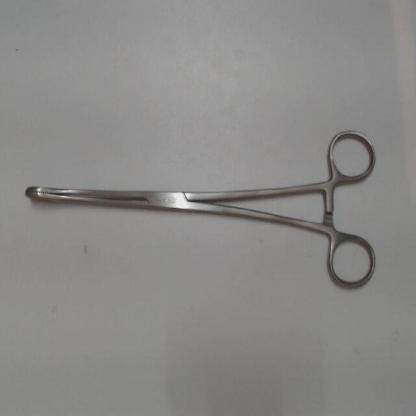Sponge Forceps: (17, 122, 385, 296)
